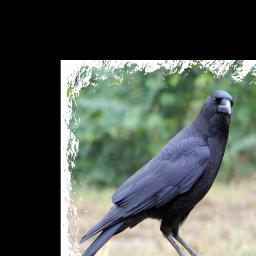Crow: (74, 89, 238, 256)
